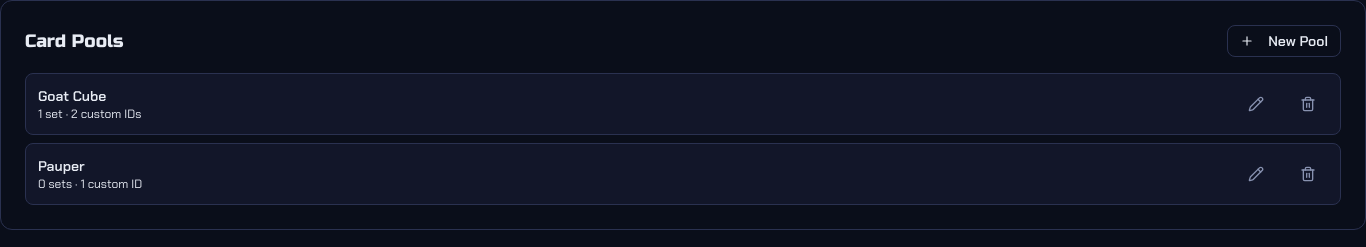
Test: CardPoolManager › deletes a pool after confirmation
Expected: the text "Pauper" is shown, x1=38 y1=157 x2=85 y2=175
Step 1. Click the button named "delete pool pauper" → click(1308, 174), box x1=1288 y1=158 x2=1328 y2=190
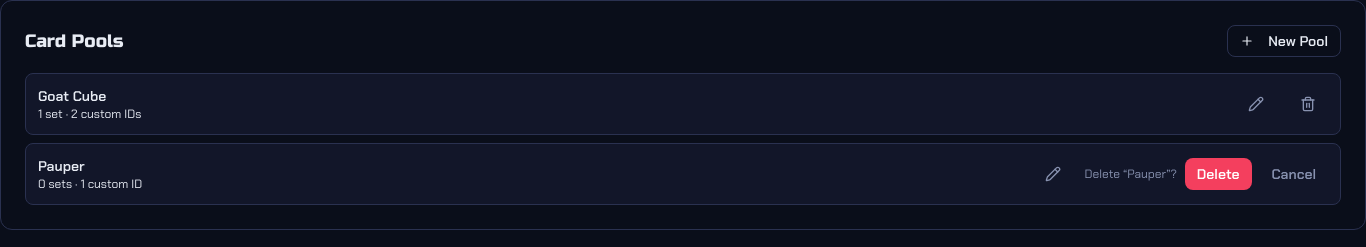
Step 2. Click the button "Delete" → click(1218, 174), box x1=1185 y1=158 x2=1252 y2=190
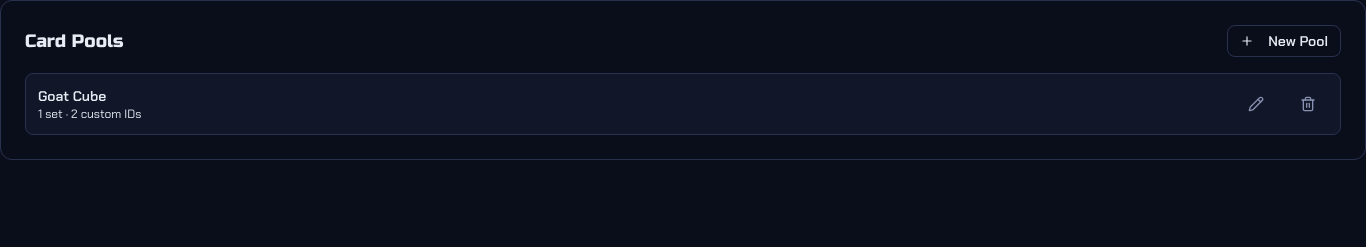
Expected: the text "Pauper" is gone
